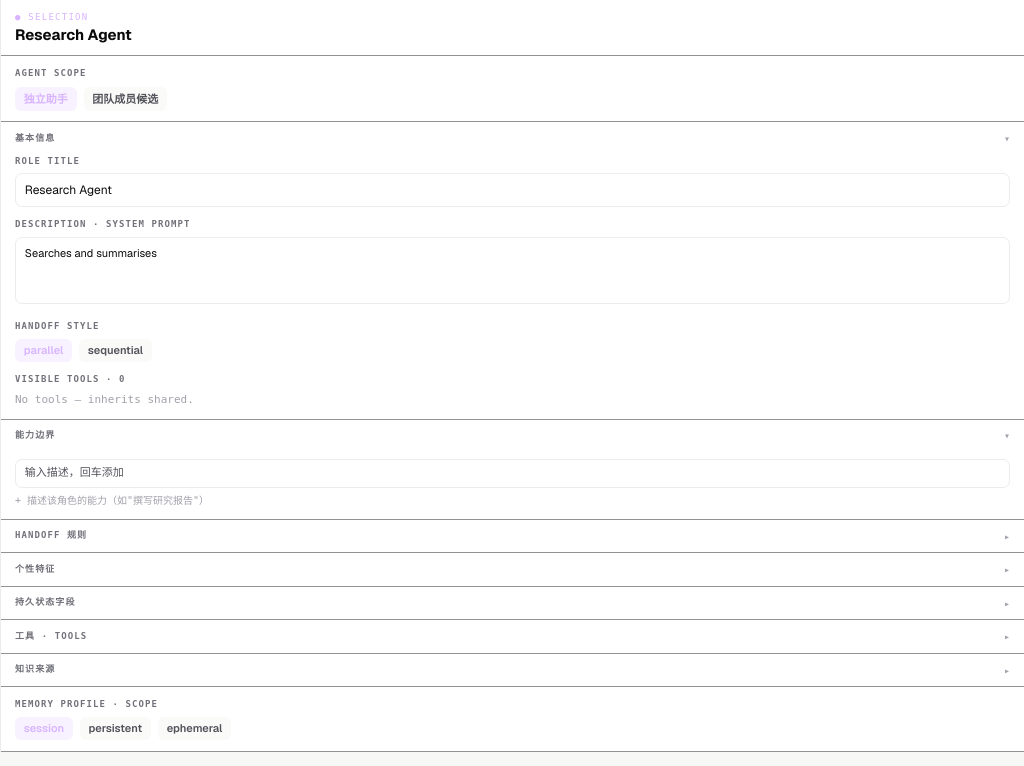
Test: AC1 — 分组折叠展开 › 点击 个性特征 切换展开
Click the button with test id "section-persona-traits-toggle" at (35, 569), box [1, 553, 1023, 586]
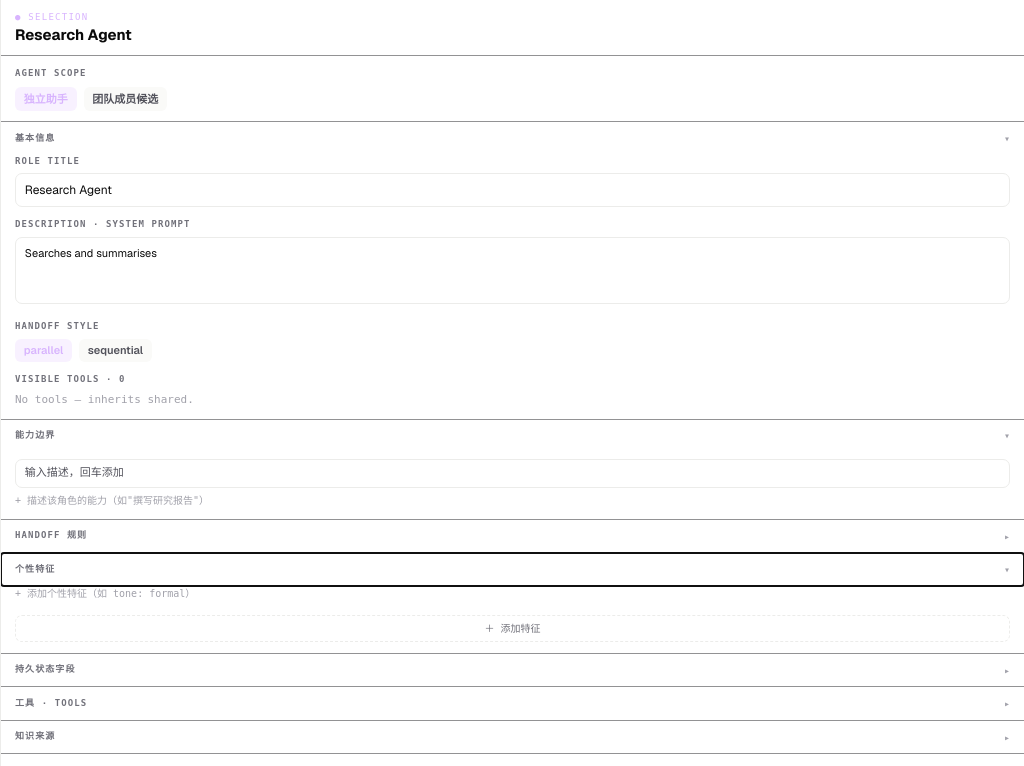
Result: the element with test id "persona-traits-editor" is shown at [15, 586, 1010, 642]
